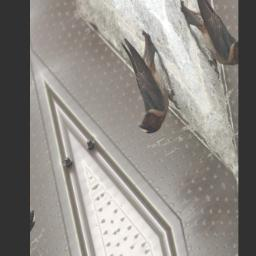Swallow: (104, 22, 187, 141)
